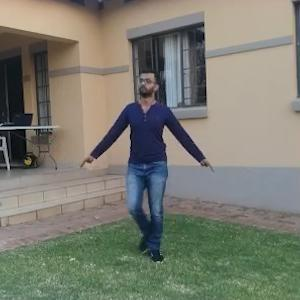land: (86, 73, 213, 259)
